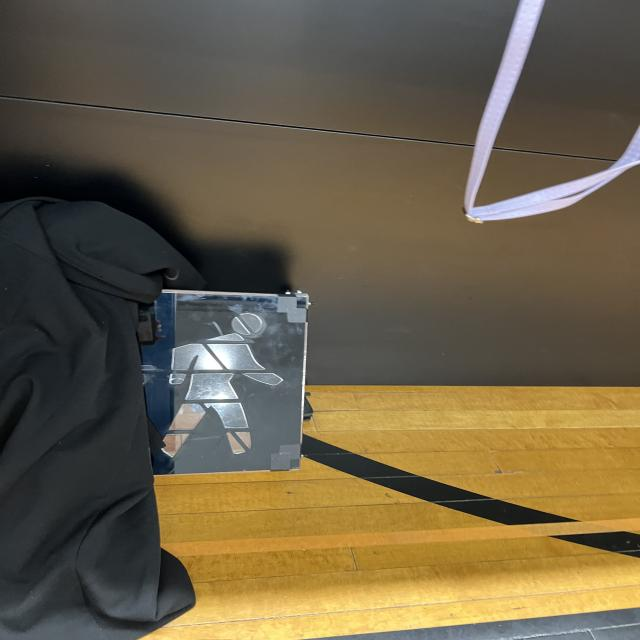go: (149, 286, 295, 470)
